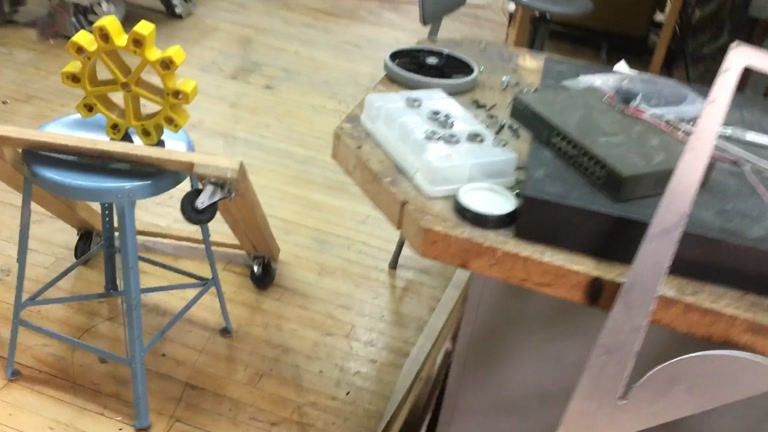gear: (58, 16, 200, 147)
